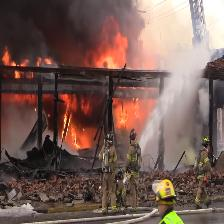fire: (2, 32, 129, 65), (62, 96, 90, 149), (116, 98, 154, 137)
smoke: (147, 35, 214, 164)
